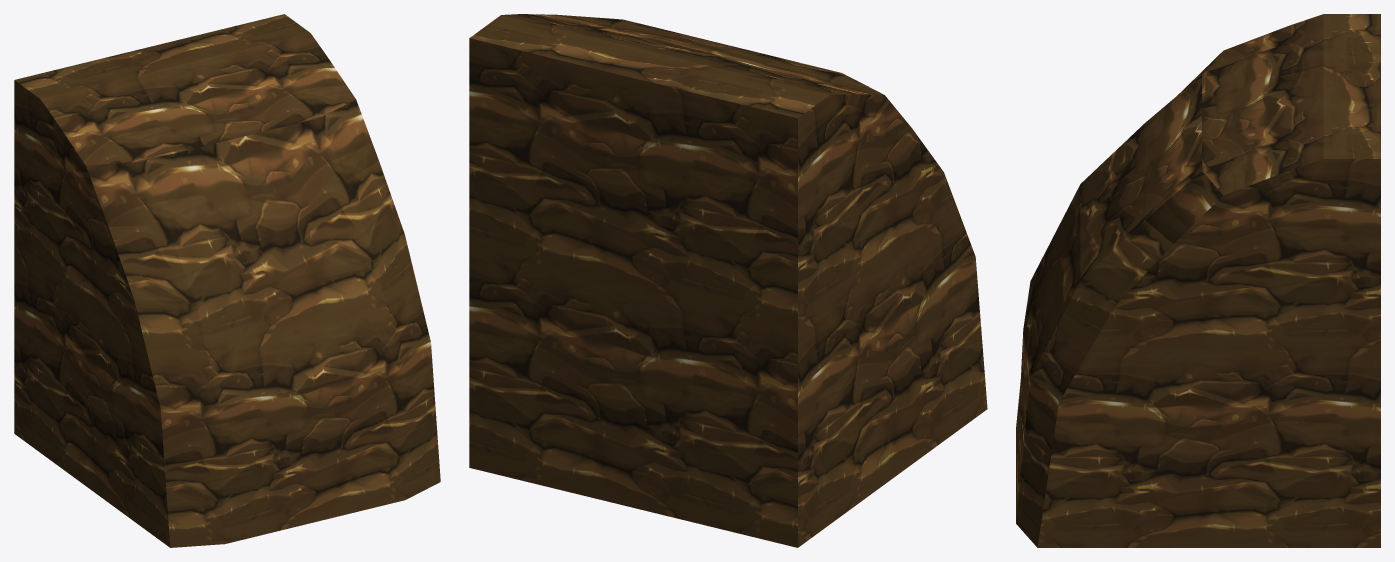
File: Mountain_Center_1x1x3.fbx
3 views of the same model, side by side, from view 1: azimuth 30°, elevation 25°; view 2: azimuth 150°, elevation 25°; view 3: azimuth 270°, elevation 25° (orthographic). The views are drawn at different scales.
Parts seen in each view (by area): view 1: Mountain_Center_1x1x3; view 2: Mountain_Center_1x1x3; view 3: Mountain_Center_1x1x3.
Boxes of the visible parts, x1,y1,x2,y2 form: Mountain_Center_1x1x3: (14,14,440,547); Mountain_Center_1x1x3: (469,14,987,547); Mountain_Center_1x1x3: (1016,14,1380,547).
Size of the model in its own units: 3 by 3.19 by 3.75.
